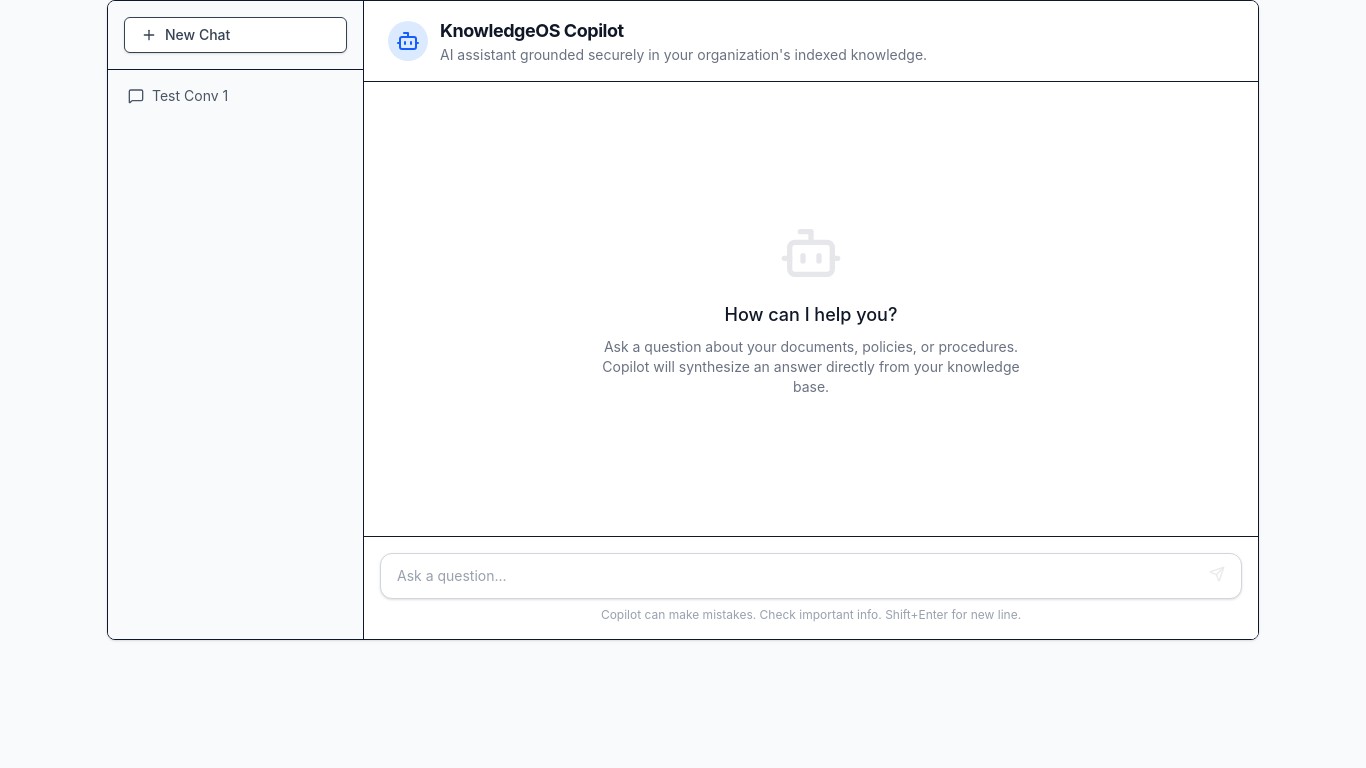
Test case: Copilot UI Component Phase 21 › new conversation resets active state and messages (Req 4)
Expected: the text "Test Conv 1" is shown, [152,86,228,106]
Click the button "Test Conv 1".
click(236, 96)  # box [116,78,355,114]
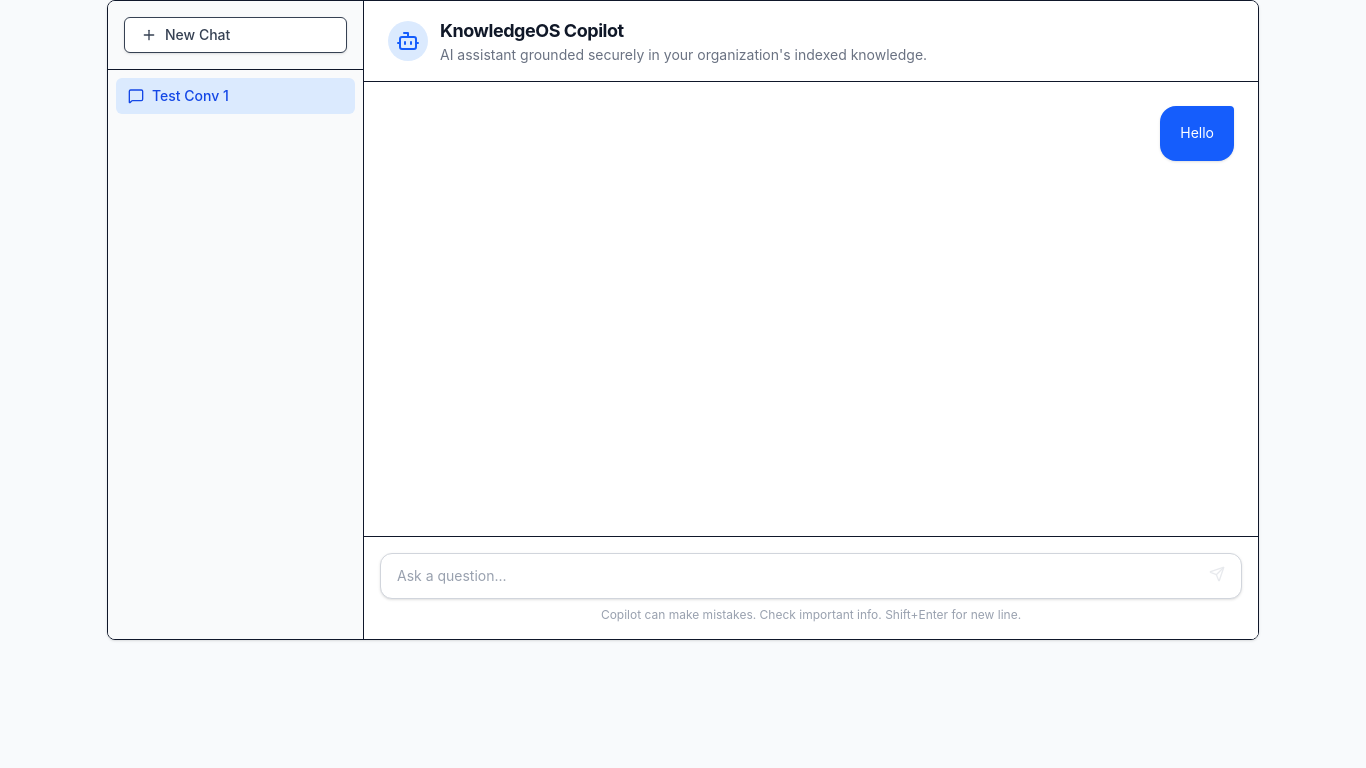
Expected: the text "Hello" is shown, [1180,124,1214,141]
# Click New Chat
Click the button "New Chat".
click(236, 35)  # box [124,17,347,53]
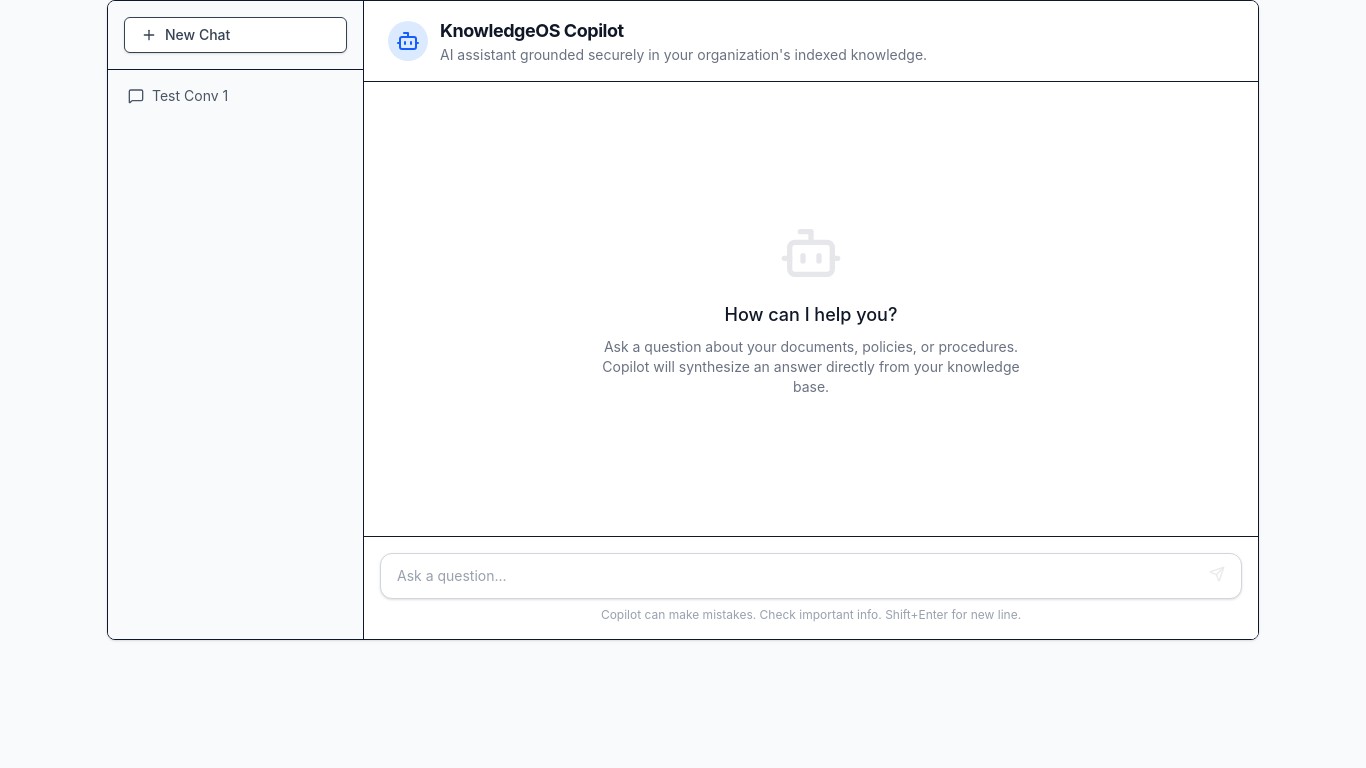
Expected: the text "Hello" is gone
Expected: the heading "How can I help you?" is shown, [724,304,897,325]
